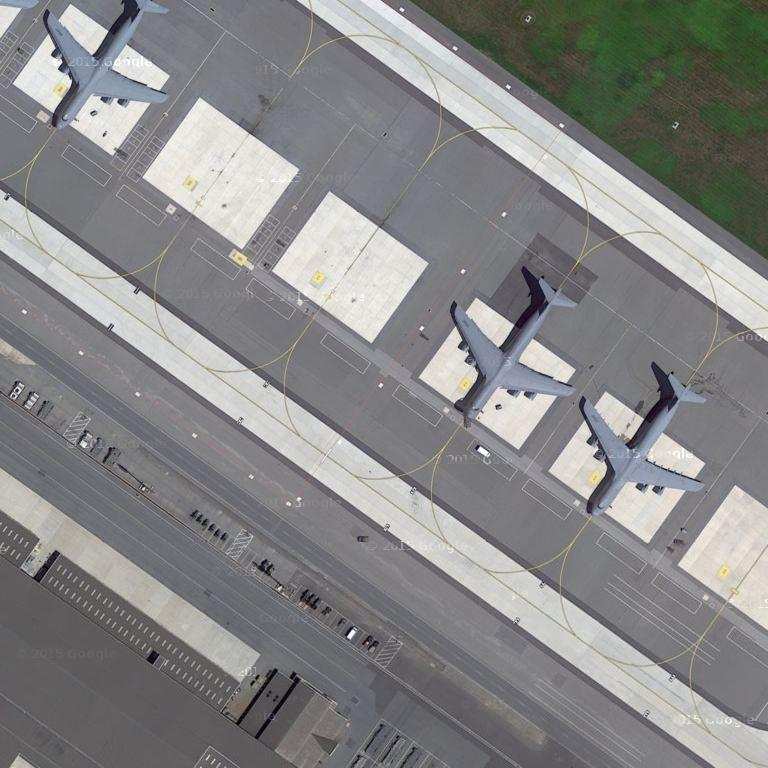KC-135: (443, 272, 583, 423), (576, 368, 707, 519), (36, 5, 177, 127)
